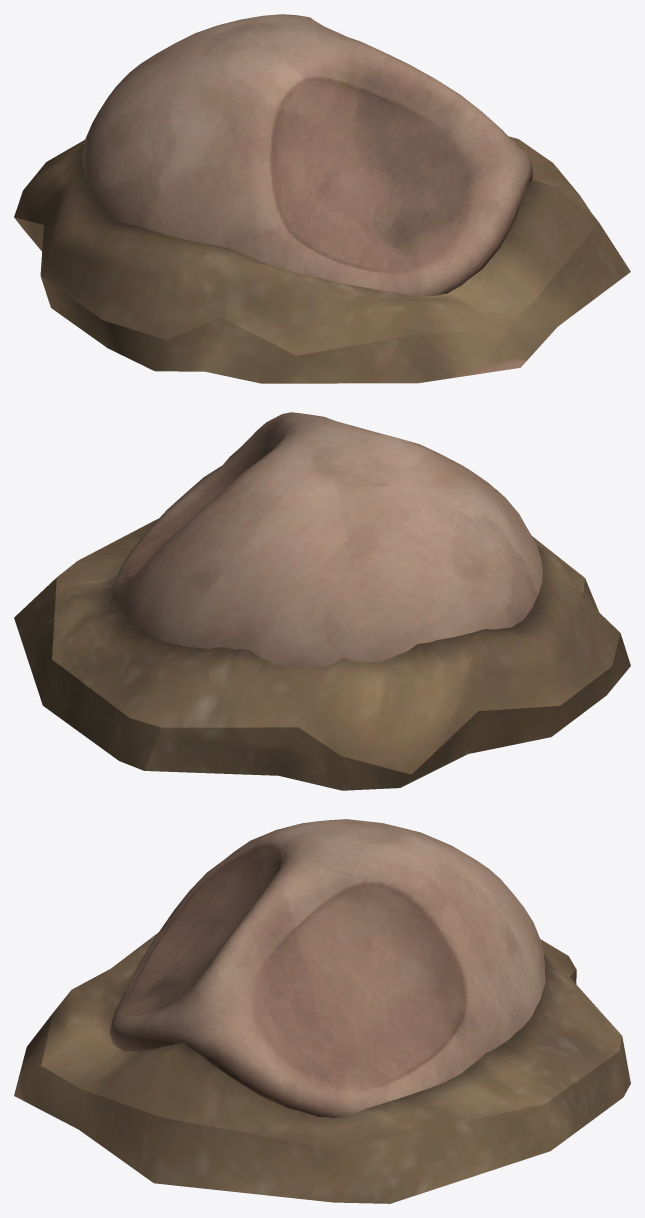
File: domeFossil.obj
3 renders of one model, top to bottom at view 1: azimuth 30°, elevation 25°; view 2: azimuth 150°, elevation 25°; view 3: azimuth 270°, elevation 25°, orthographic. The views are drawn at different scales.
Visible parts, largest first — view 1: fossil02_model_01, fossil02_model_02; view 2: fossil02_model_02, fossil02_model_01; view 3: fossil02_model_01, fossil02_model_02.
Boxes of the visible parts, x1,y1,x2,y2 form: fossil02_model_01: [82, 14, 532, 296]; fossil02_model_02: [14, 136, 630, 383]; fossil02_model_02: [14, 518, 630, 790]; fossil02_model_01: [109, 412, 542, 669]; fossil02_model_01: [109, 819, 545, 1117]; fossil02_model_02: [14, 932, 630, 1203].
Bounding box in the file's own units: 0.9828 × 0.4121 × 1.01.
Materials: 1 (1 with a texture image).
